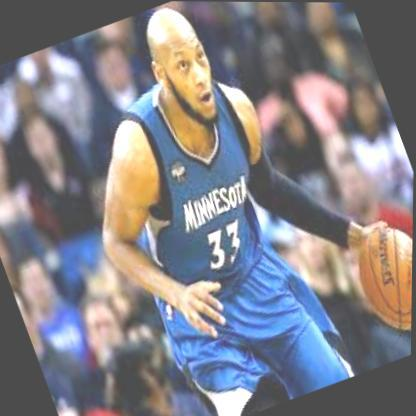basketball: (347, 218, 413, 338)
